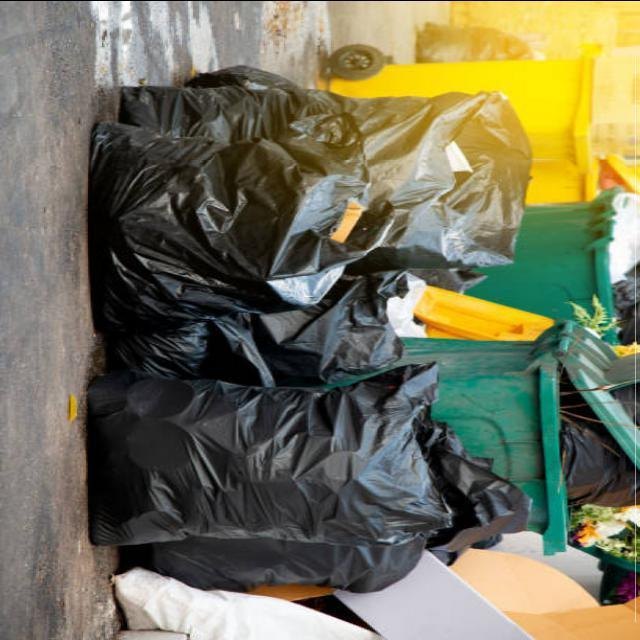Trashbag: (82, 368, 535, 590), (84, 136, 384, 337), (340, 81, 539, 289)
